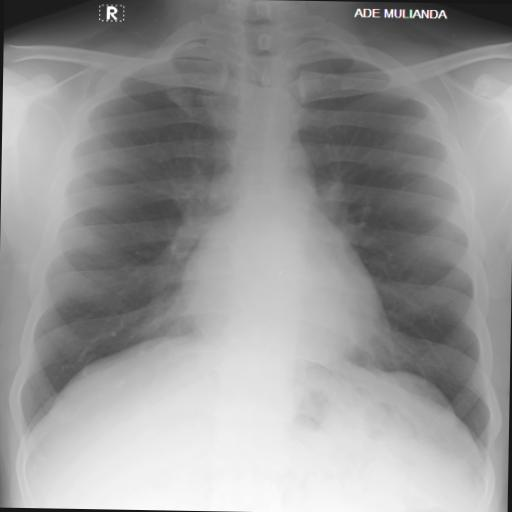normal: (10, 7, 509, 452)
